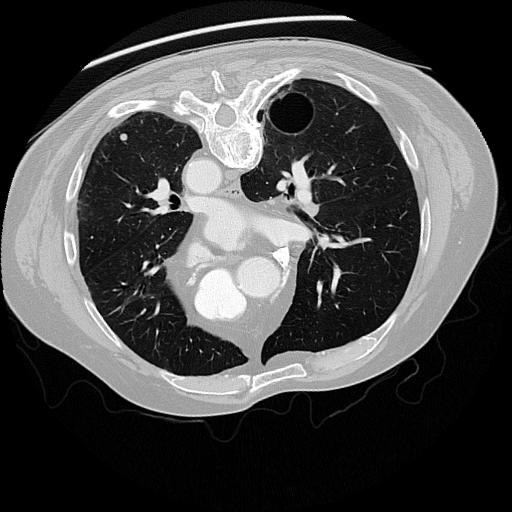nodule: (118, 131, 133, 146)
